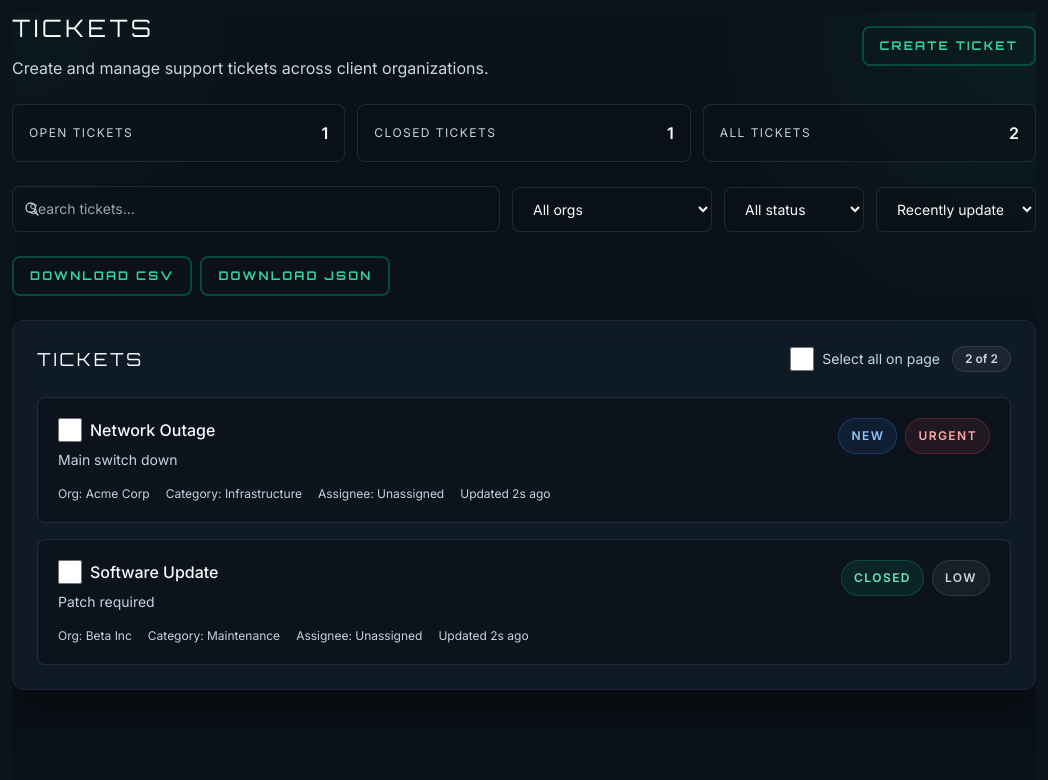
Test case: AdminTicketCenterClient › keeps per-row selection controls out of the ticket link
The width and height of the screenshot is (1048, 780).
Click the checkbox named "Select ticket" next to "Network Outage". click: (70, 430)
box: [58,418,82,442]
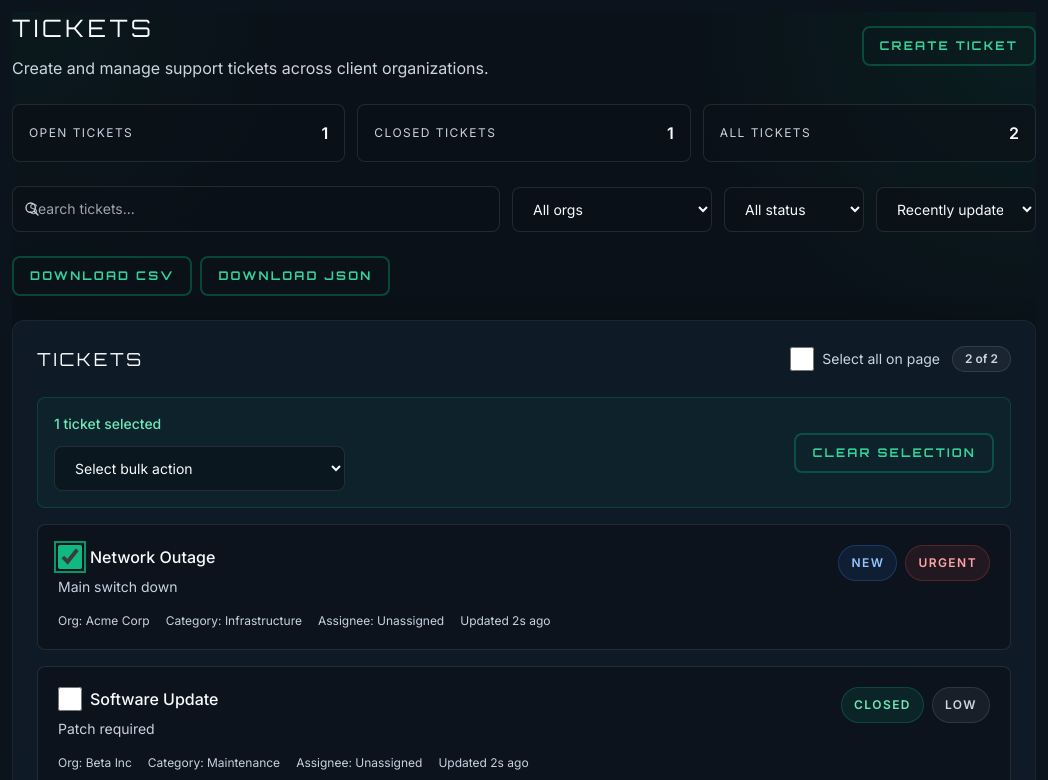
Expected: the checkbox named "Select ticket" next to "Network Outage" is checked, [58,545,82,569]
Expected: the text "1 ticket selected" is shown, [54,414,161,434]
